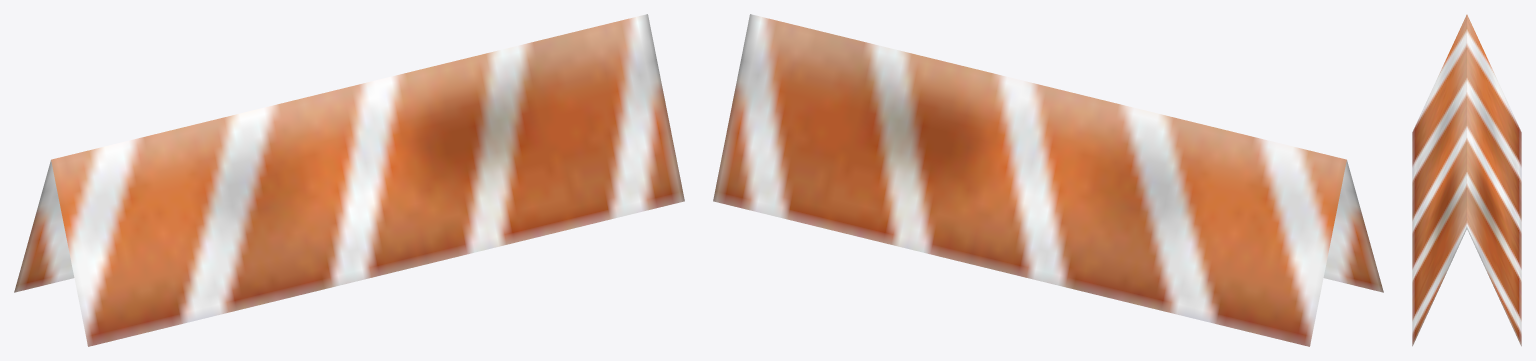
Rendered from sign12.glb.
3 renders of one model, left to right at view 1: azimuth 30°, elevation 25°; view 2: azimuth 150°, elevation 25°; view 3: azimuth 270°, elevation 25°, orthographic. The views are drawn at different scales.
Visible parts, largest first — view 1: sign12; view 2: sign12; view 3: sign12.
Boxes of the visible parts, bbox=[...] form: sign12: bbox=[14, 14, 684, 346]; sign12: bbox=[713, 14, 1383, 346]; sign12: bbox=[1412, 14, 1521, 346].
Bounding box in the file's own units: 330 × 84.61 × 70.84.
1 material, 1 textured.
